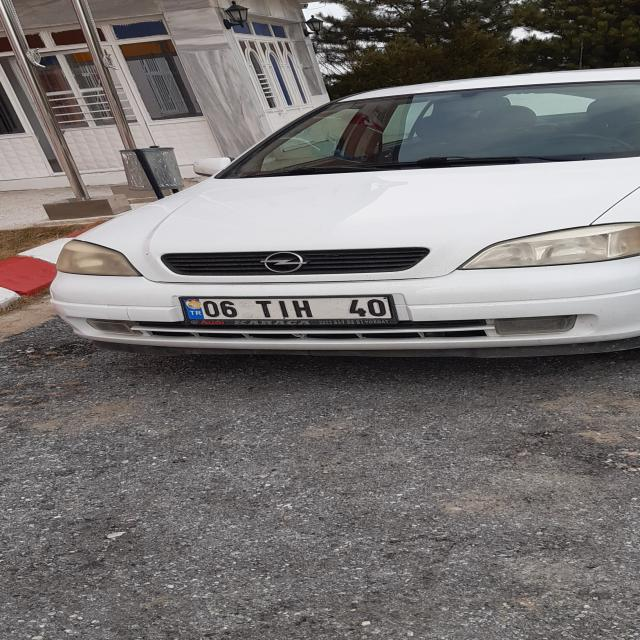plate: (178, 296, 394, 321)
